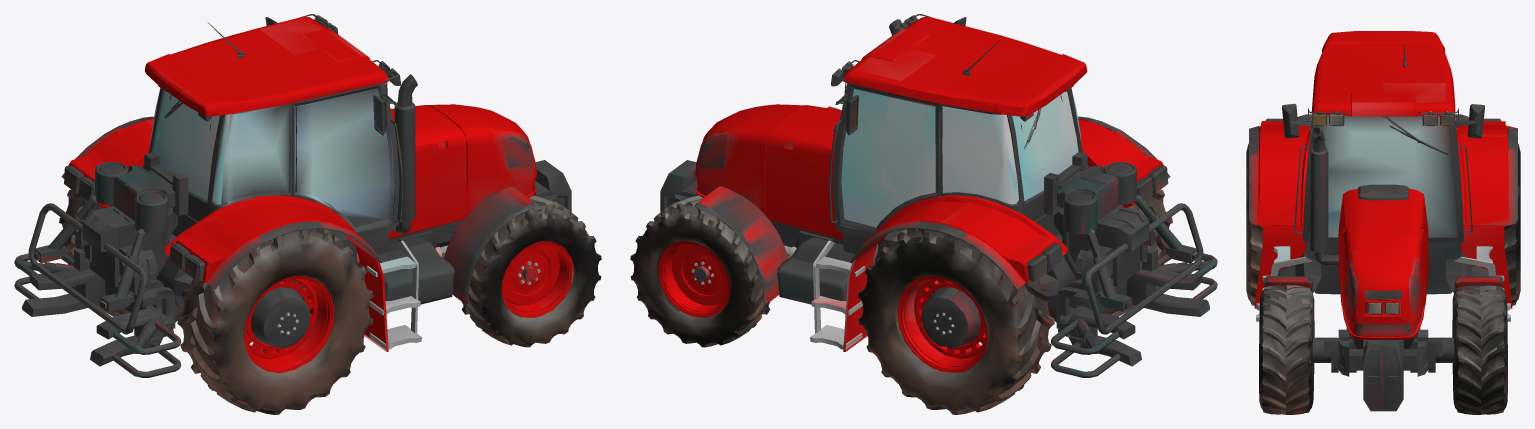
Rendered from tractor.glb.
3 renders of one model, left to right at view 1: azimuth 30°, elevation 25°; view 2: azimuth 150°, elevation 25°; view 3: azimuth 270°, elevation 25°, orthographic. The views are drawn at different scales.
Visible parts, largest first — view 1: body; view 2: body; view 3: body.
Boxes of the visible parts, x1,y1,x2,y2 form: body: (14,14,601,414); body: (630,14,1217,414); body: (1246,31,1520,414).
Bounding box in the file's own units: 4.77 × 3 × 2.59.
